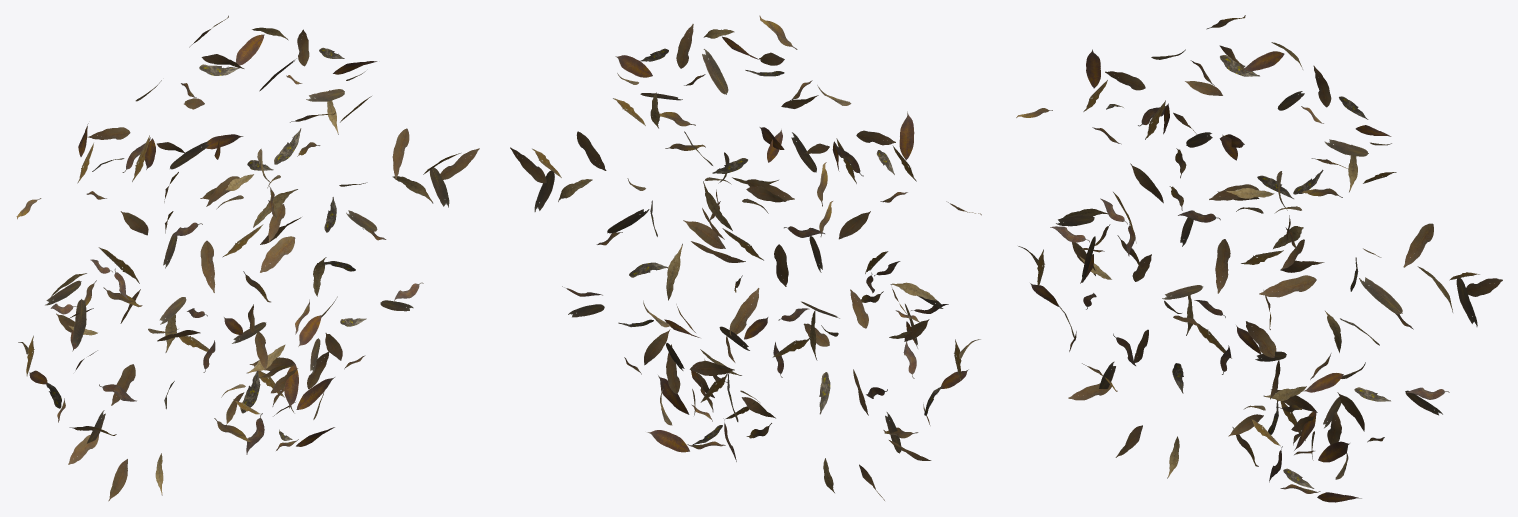
File: Leaf_Pile_03_Var3_LOD2.fbx
The picture shows the model from 3 angles, left to right: view 1: azimuth 30°, elevation 25°; view 2: azimuth 150°, elevation 25°; view 3: azimuth 330°, elevation 25°; orthographic projection. The views are drawn at different scales.
Visible parts, largest first — view 1: Var3_LOD2; view 2: Var3_LOD2; view 3: Var3_LOD2.
Part boxes in pixels (box(x1,y1,x2,y2)): Var3_LOD2: box(16, 15, 479, 501); Var3_LOD2: box(510, 15, 981, 500); Var3_LOD2: box(1016, 15, 1502, 502).
Size of the model in its own units: 115 by 109 by 7.98.
